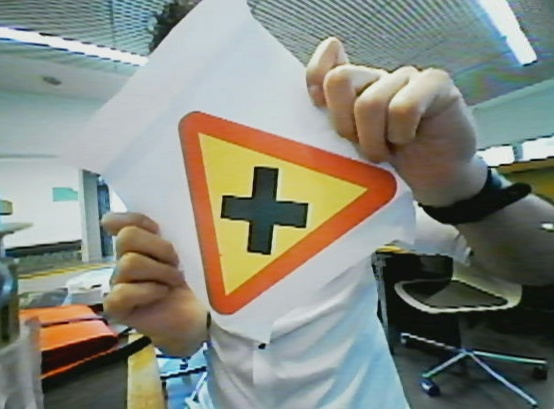junction: (174, 109, 429, 326)
